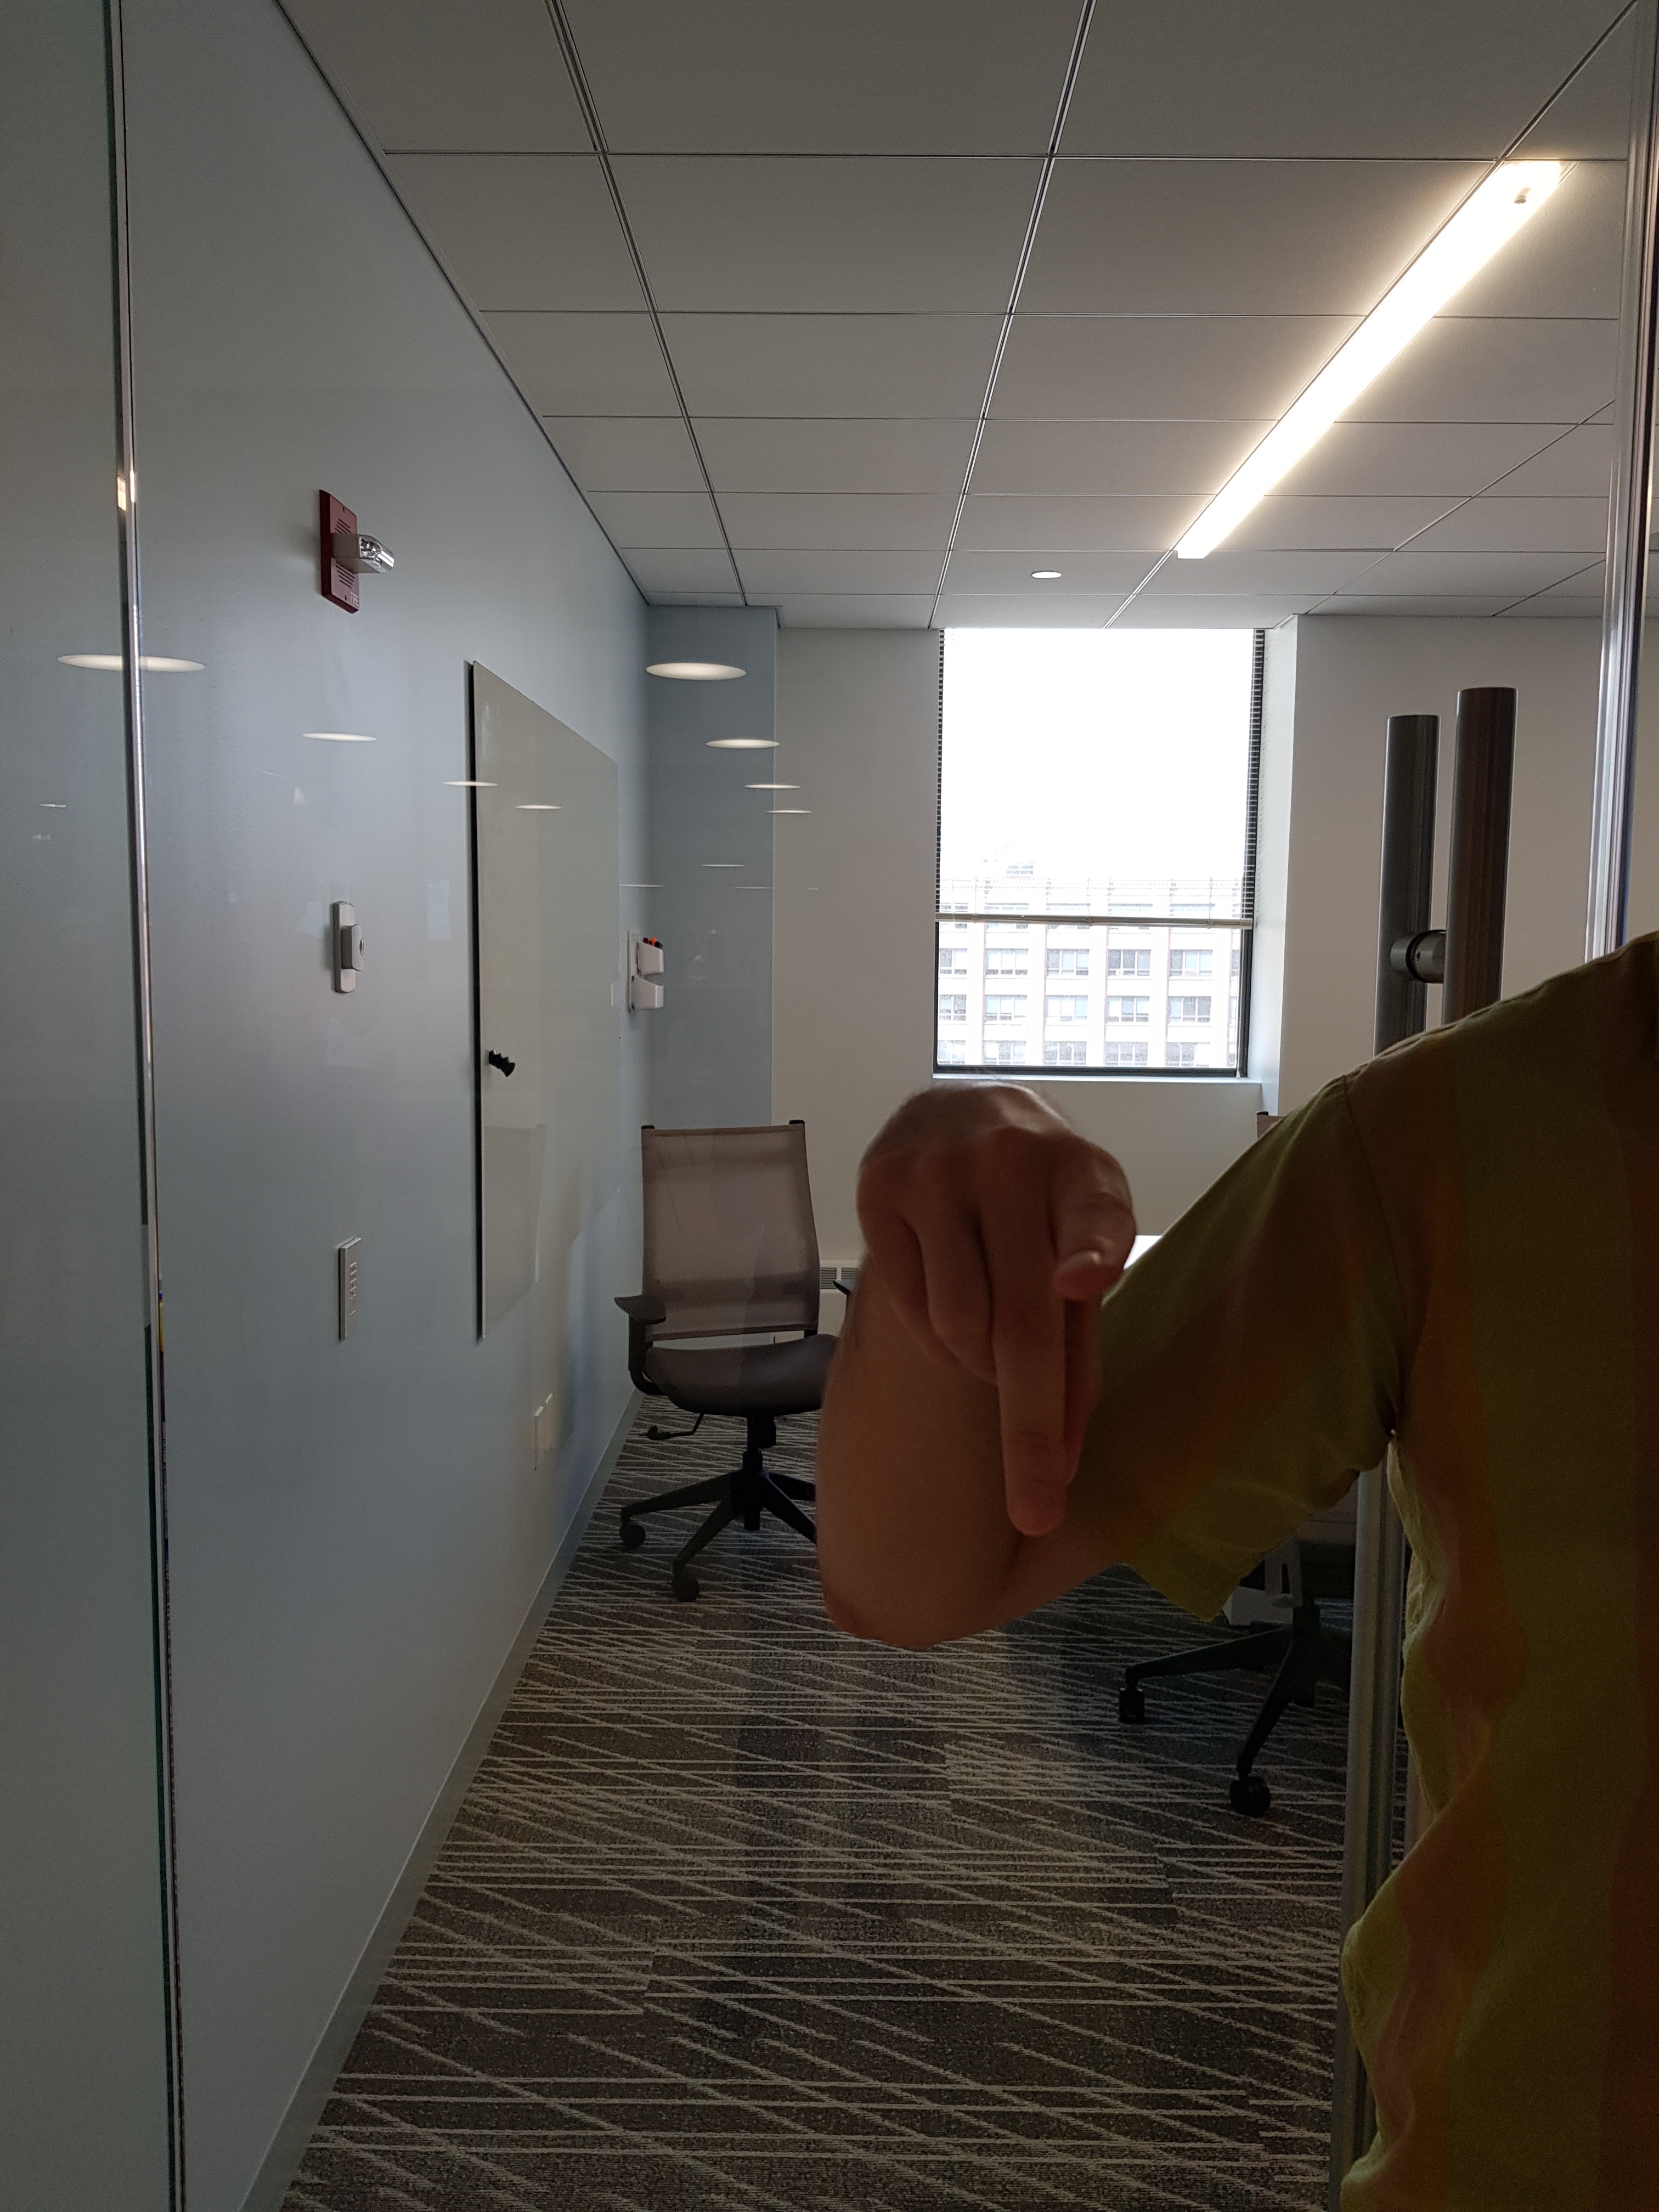p: (824, 1042, 1164, 1571)
